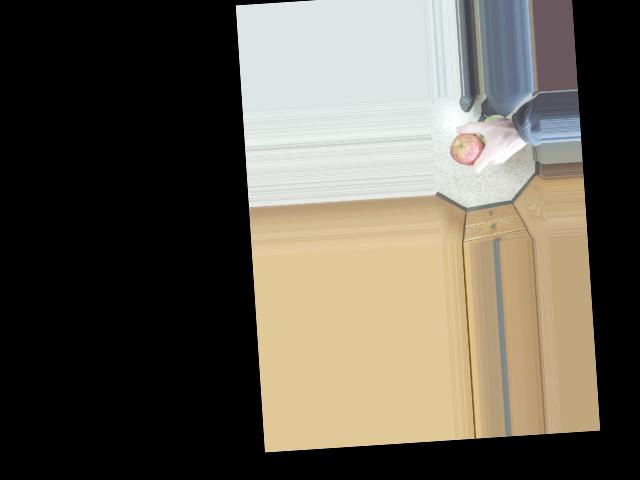apple: (447, 126, 490, 168)
